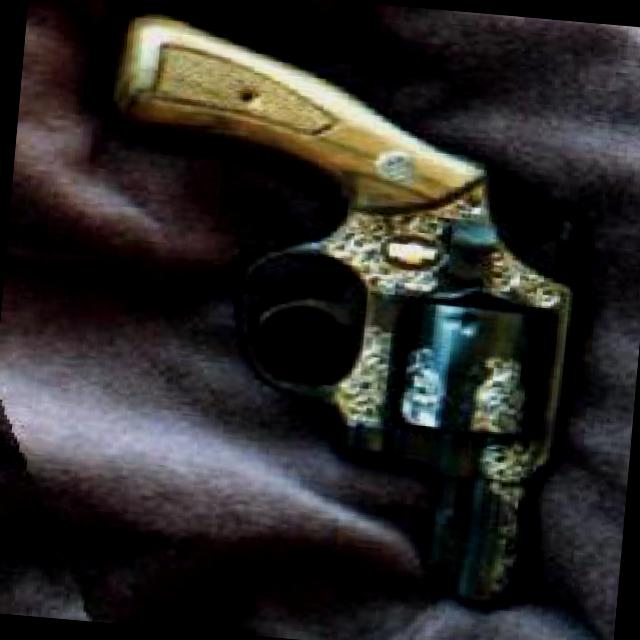handgun: (77, 2, 602, 608)
